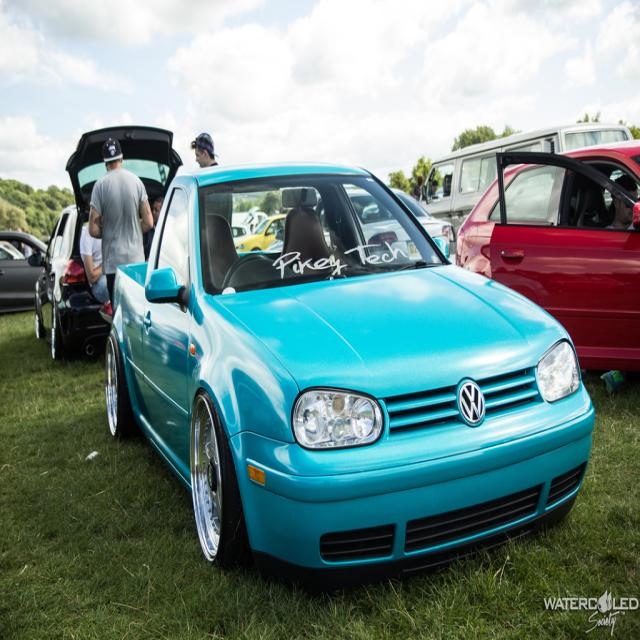car: (102, 164, 597, 632)
